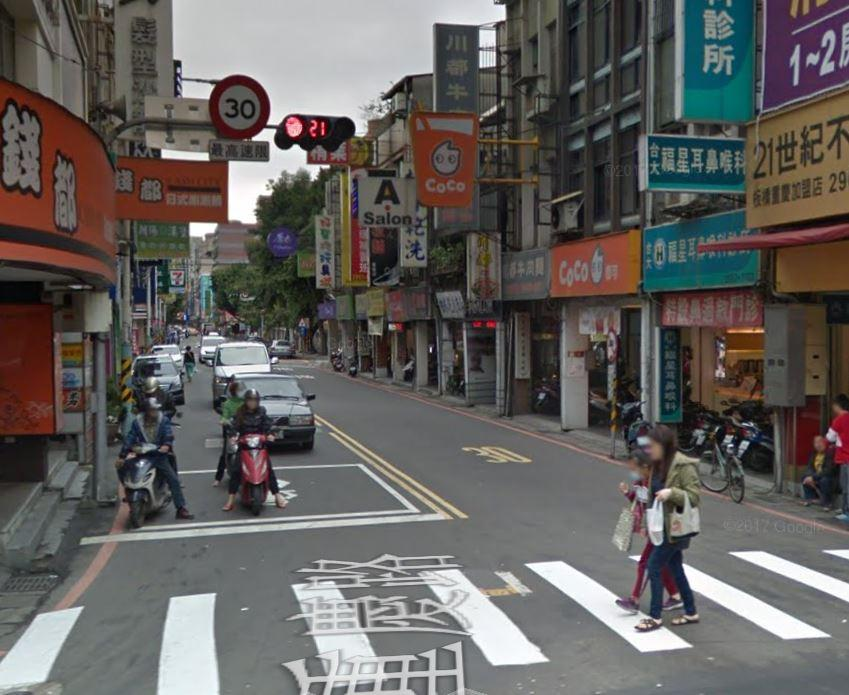red_traffic_light: (279, 114, 356, 140)
